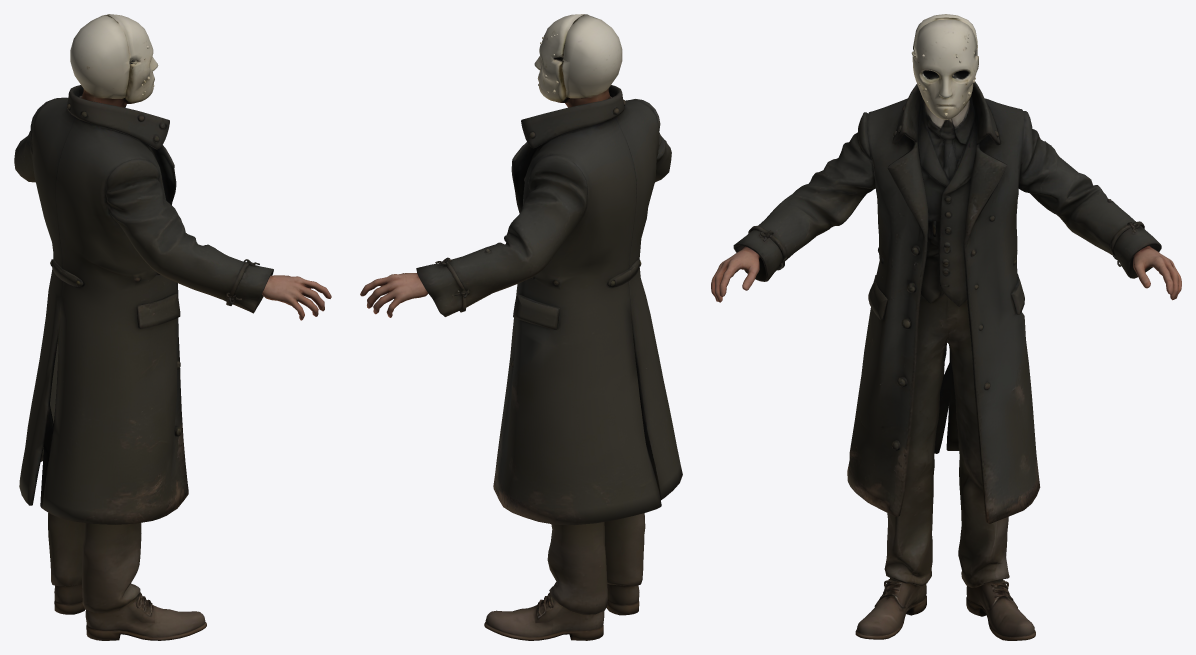
Rendered from watcher.glb.
3 renders of one model, left to right at view 1: azimuth 30°, elevation 25°; view 2: azimuth 150°, elevation 25°; view 3: azimuth 270°, elevation 25°, orthographic.
Parts seen in each view (by area): view 1: node_22af18a1-02e8-4564-a02a-53dc306b6072; view 2: node_22af18a1-02e8-4564-a02a-53dc306b6072; view 3: node_22af18a1-02e8-4564-a02a-53dc306b6072.
Part boxes in pixels (x1,y1,x2,y2): node_22af18a1-02e8-4564-a02a-53dc306b6072: [14, 14, 331, 640]; node_22af18a1-02e8-4564-a02a-53dc306b6072: [360, 14, 682, 640]; node_22af18a1-02e8-4564-a02a-53dc306b6072: [711, 14, 1181, 640].
Size of the model in its own units: 0.3335 by 0.9995 by 0.7075.
Materials: 1 (1 with a texture image).
